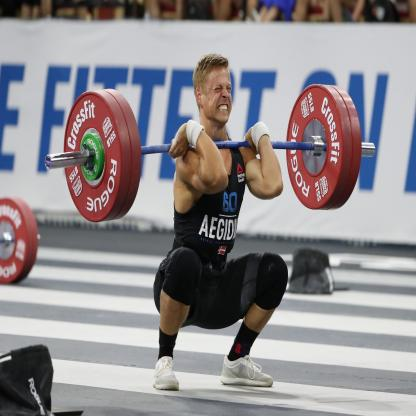barbell: (64, 91, 123, 224), (287, 84, 347, 212)
